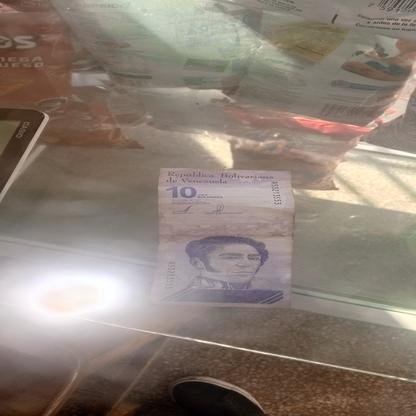vef_front: (151, 168, 293, 310)
